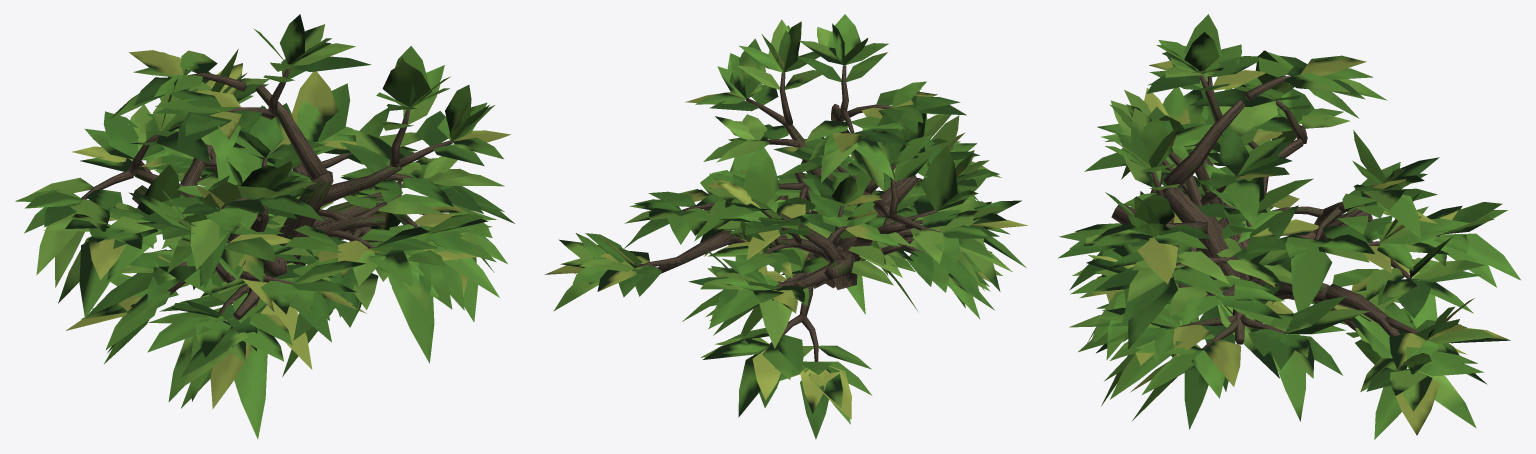
File: Understory_Shrub.glb
3 renders of one model, left to right at view 1: azimuth 30°, elevation 25°; view 2: azimuth 150°, elevation 25°; view 3: azimuth 270°, elevation 25°, orthographic. The views are drawn at different scales.
Visible parts, largest first — view 1: Understory_Shrub__Leaves, Understory_Shrub__Stems; view 2: Understory_Shrub__Leaves, Understory_Shrub__Stems; view 3: Understory_Shrub__Leaves, Understory_Shrub__Stems.
Part boxes in pixels (x1=…): Understory_Shrub__Leaves: x1=15, y1=14, x2=514, y2=439; Understory_Shrub__Stems: x1=81, y1=68, x2=452, y2=319; Understory_Shrub__Leaves: x1=544, y1=14, x2=1027, y2=439; Understory_Shrub__Stems: x1=635, y1=65, x2=939, y2=361; Understory_Shrub__Leaves: x1=1058, y1=14, x2=1520, y2=439; Understory_Shrub__Stems: x1=1111, y1=75, x2=1441, y2=350.
Size of the model in its own units: 9.29 by 7.37 by 7.69.
Materials: 2 (2 with a texture image).
